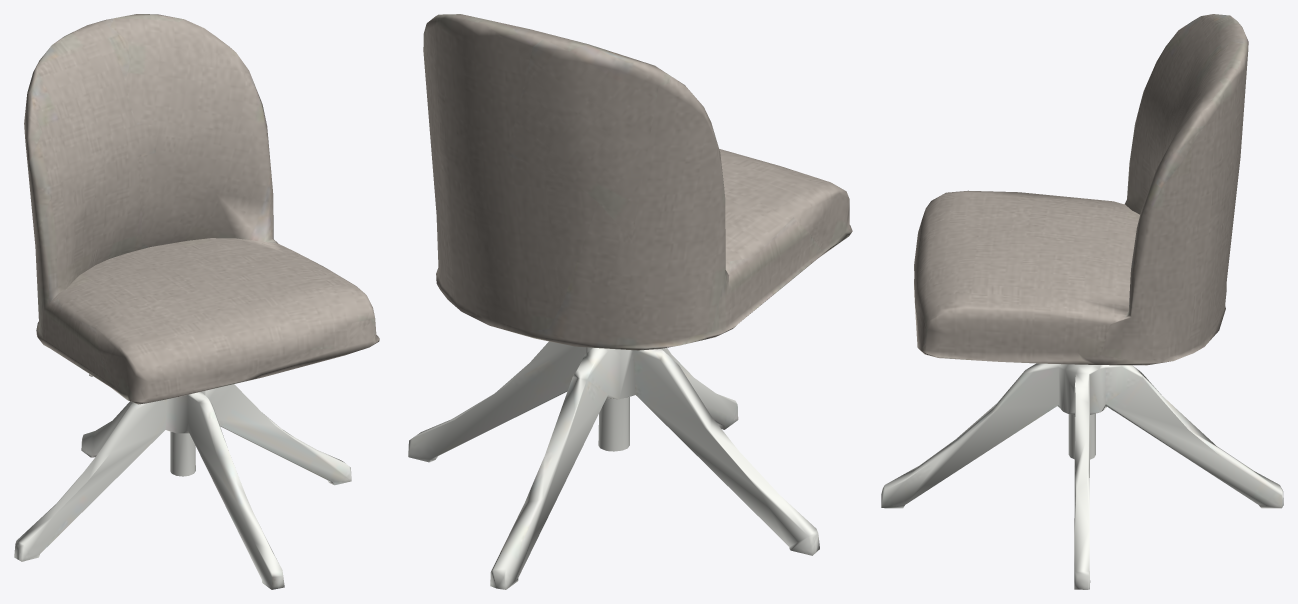
The model's file is 42 - ROSENTORP Swivel chair - whiteKilanda light beige.glb.
The picture shows the model from 3 angles, left to right: view 1: azimuth 30°, elevation 25°; view 2: azimuth 150°, elevation 25°; view 3: azimuth 270°, elevation 25°; orthographic projection. The views are drawn at different scales.
Parts seen in each view (by area): view 1: ASY_ART_20576553_S01_NV01; view 2: ASY_ART_20576553_S01_NV01; view 3: ASY_ART_20576553_S01_NV01.
Part boxes in pixels (left/top/right/bottom): ASY_ART_20576553_S01_NV01: left=14, top=14, right=379, bottom=589; ASY_ART_20576553_S01_NV01: left=408, top=14, right=852, bottom=589; ASY_ART_20576553_S01_NV01: left=881, top=14, right=1283, bottom=589.
Bounding box in the file's own units: 0.6683 × 0.8539 × 0.6688.
1 material, 1 textured.
